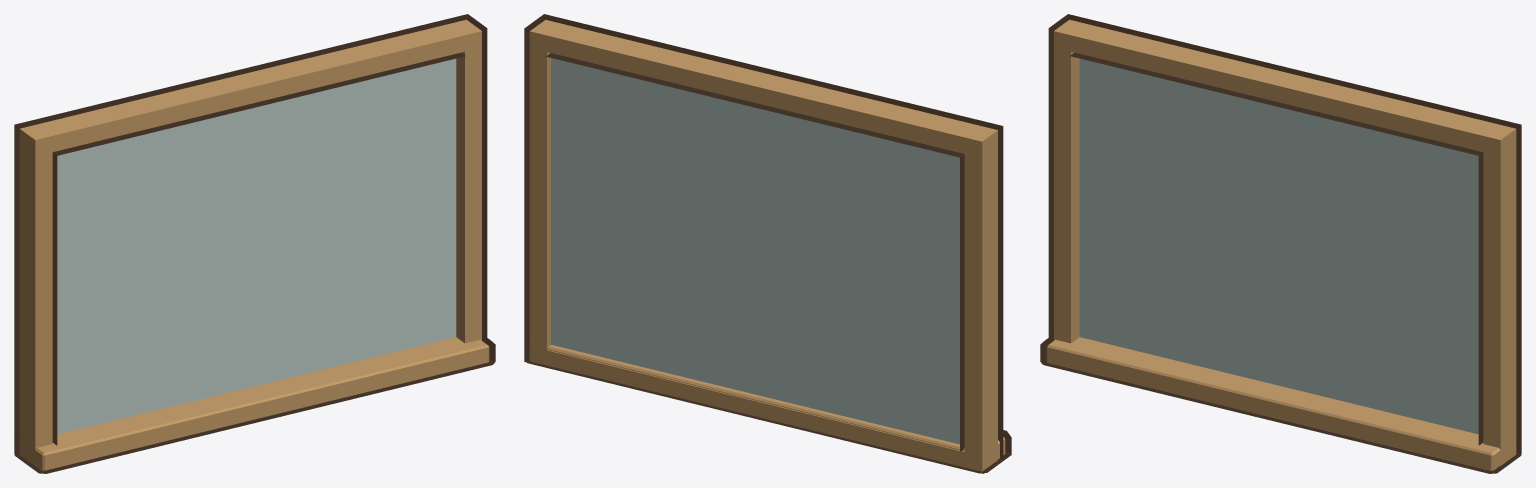
File: atelier-window.glb
3 renders of one model, left to right at view 1: azimuth 30°, elevation 25°; view 2: azimuth 150°, elevation 25°; view 3: azimuth 330°, elevation 25°, orthographic.
Parts seen in each view (by area): view 1: atelier-window, atelier-window-outline; view 2: atelier-window, atelier-window-outline; view 3: atelier-window, atelier-window-outline.
Part boxes in pixels (x1,y1,x2,y2): atelier-window: (19, 19, 489, 470); atelier-window-outline: (14, 14, 495, 473); atelier-window: (529, 19, 1005, 471); atelier-window-outline: (524, 14, 1011, 473); atelier-window: (1046, 19, 1516, 470); atelier-window-outline: (1040, 14, 1521, 473).
Size of the model in its own units: 1.43 by 0.9902 by 0.16.
